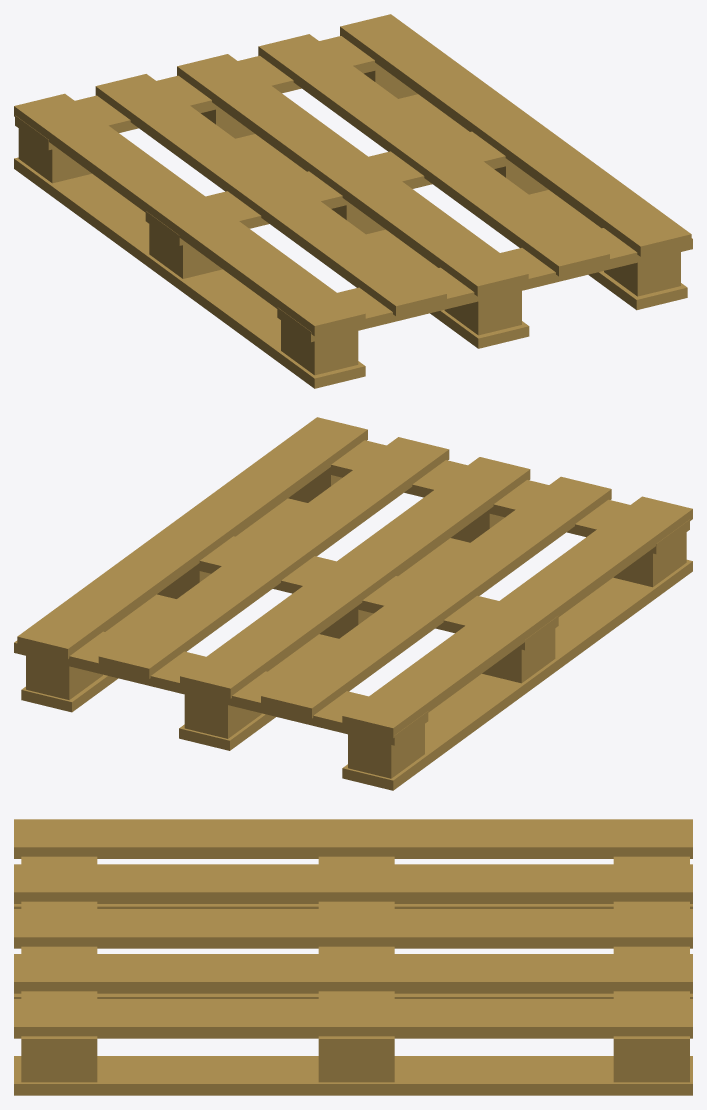
File: pallet.glb
3 views of the same model, one above another, from view 1: azimuth 30°, elevation 25°; view 2: azimuth 150°, elevation 25°; view 3: azimuth 270°, elevation 25° (orthographic). The views are drawn at different scales.
Visible parts, largest first — view 1: Pallet; view 2: Pallet; view 3: Pallet.
Boxes of the visible parts, <box> form: Pallet: <box>14,14,692,388</box>; Pallet: <box>14,417,692,790</box>; Pallet: <box>14,819,692,1095</box>.
Size of the model in its own units: 0.8925 by 0.1401 by 1.22.
1 material, 1 textured.
